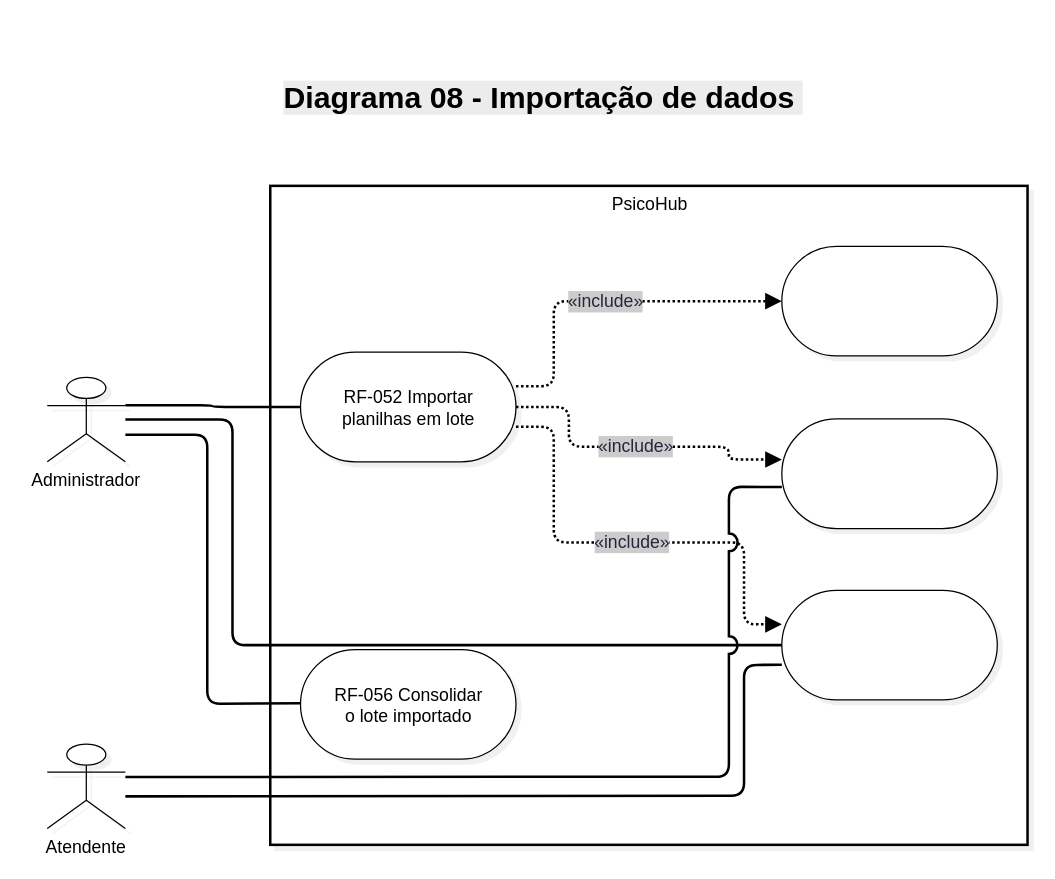
Some shapes in this 1055 by 879 pixel diagram are drawn without their labels. Each missing label, with the centre of its shape:
"RF-053 Higienizar e validar registros" goes at (891,303).
"RF-054 Detectar duplicidades e sugerir fusão" goes at (891,476).
"RF-055 Gerar relatório de inconsistências" goes at (891,647).
